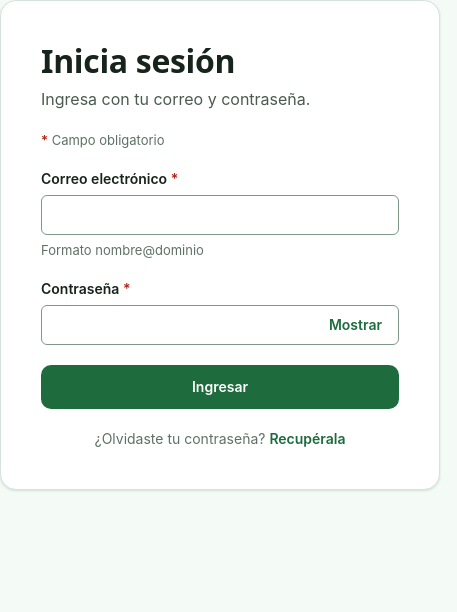
Test: LoginForm › muestra el error genérico y conserva los valores
This screenshot has width=457, height=612.
Type "lider@anuc.test" into the field labelled "Correo electrónico *" at [220, 215], box [41,195,399,235]
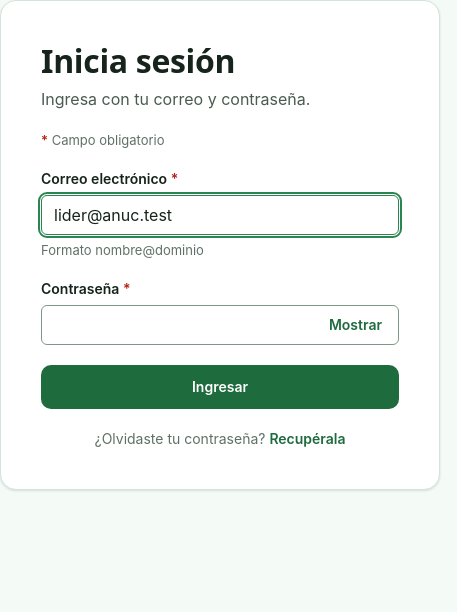
Type "incorrecta" into the password field labelled "Contraseña *" at [220, 325], box [41,305,399,345]
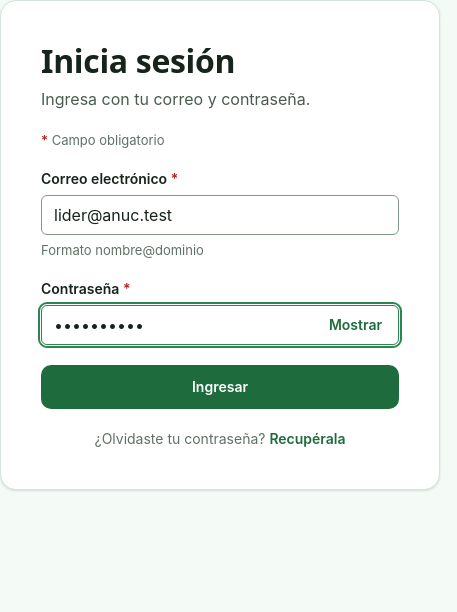
Click the button "Ingresar" at [220, 387], box [41,365,399,409]
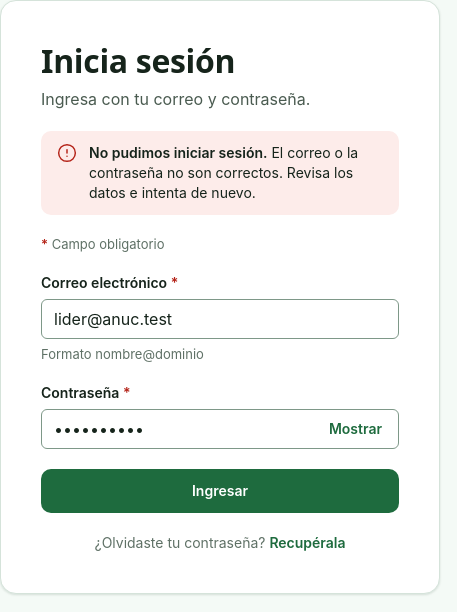
Check: the message shows "No pudimos iniciar sesión. El correo o la contraseña no son correctos. Revisa los datos e intenta de nuevo.", box [41,131,399,215]
